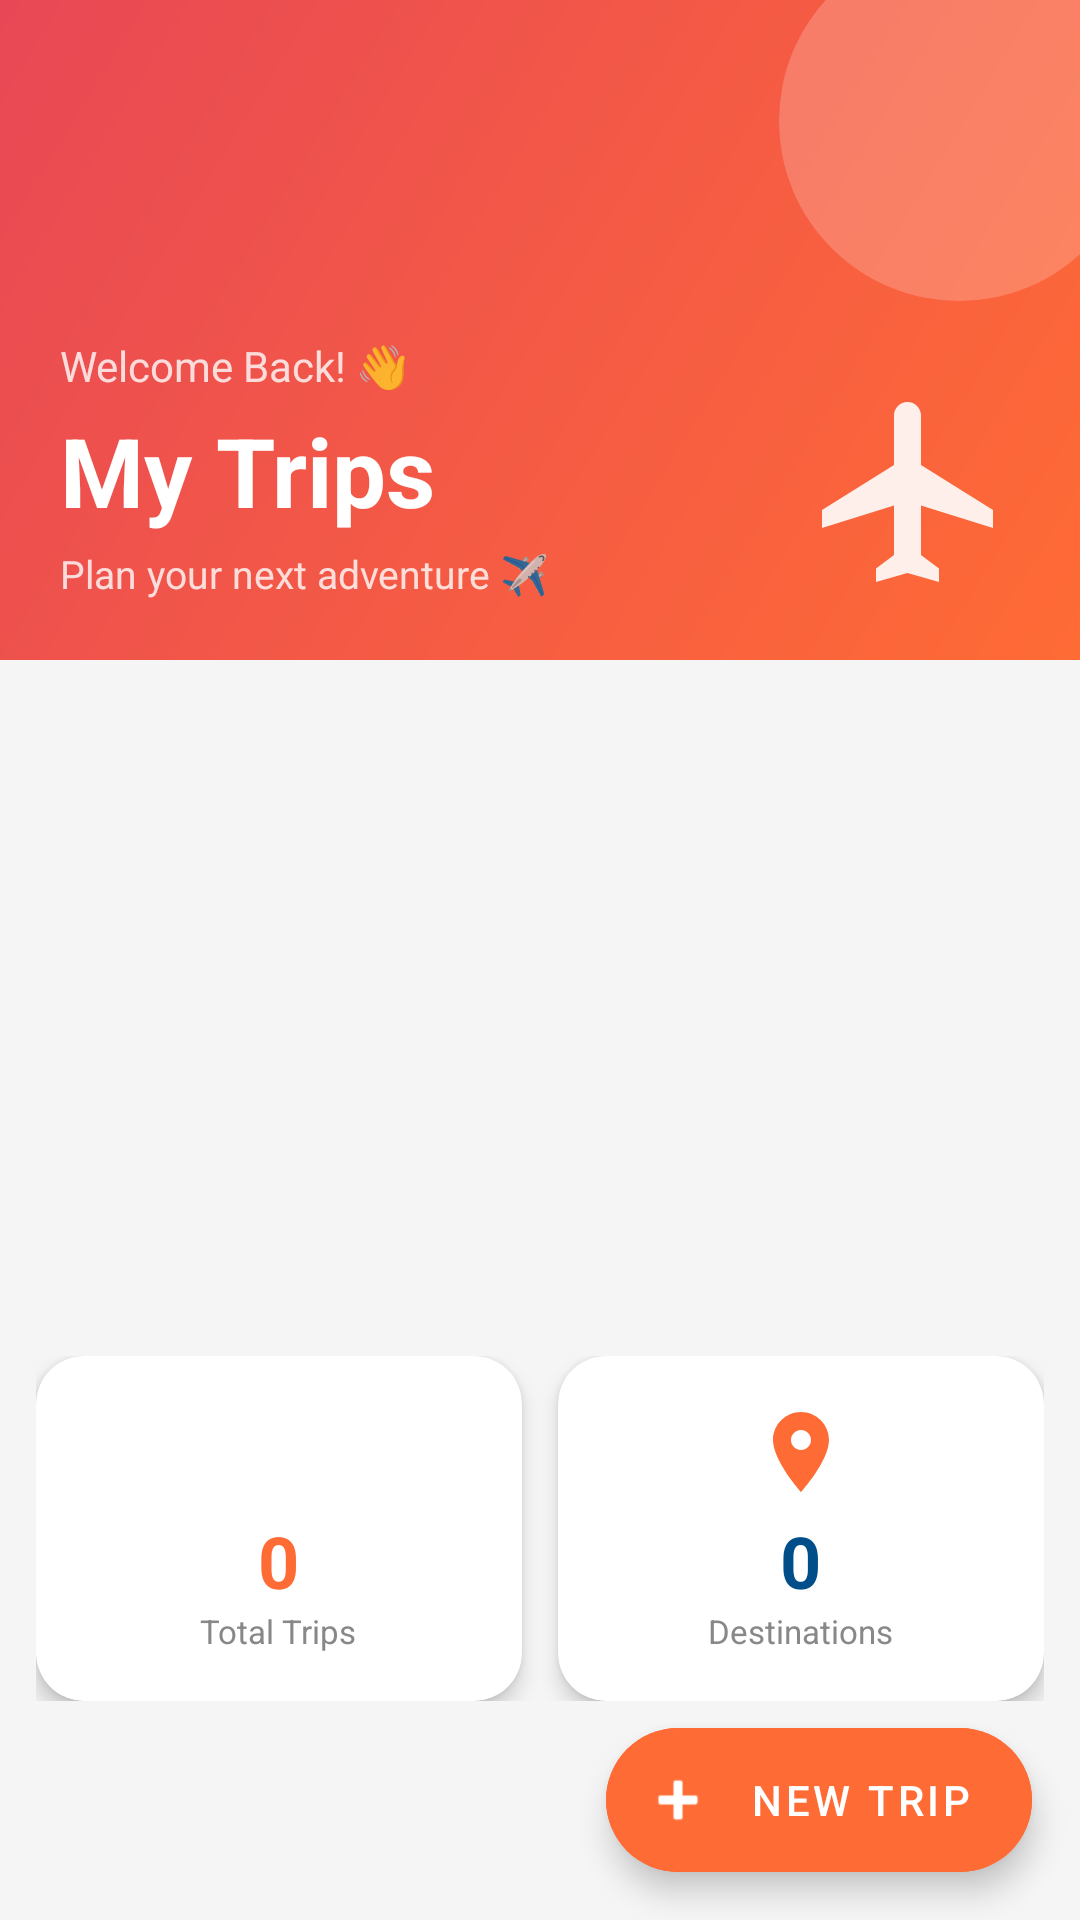

Screen size 1080px x 1920px. Icon name, then its center in pixels as (x=x, y=y):
map pin: (x=801, y=1452)
plane: (x=907, y=492)
